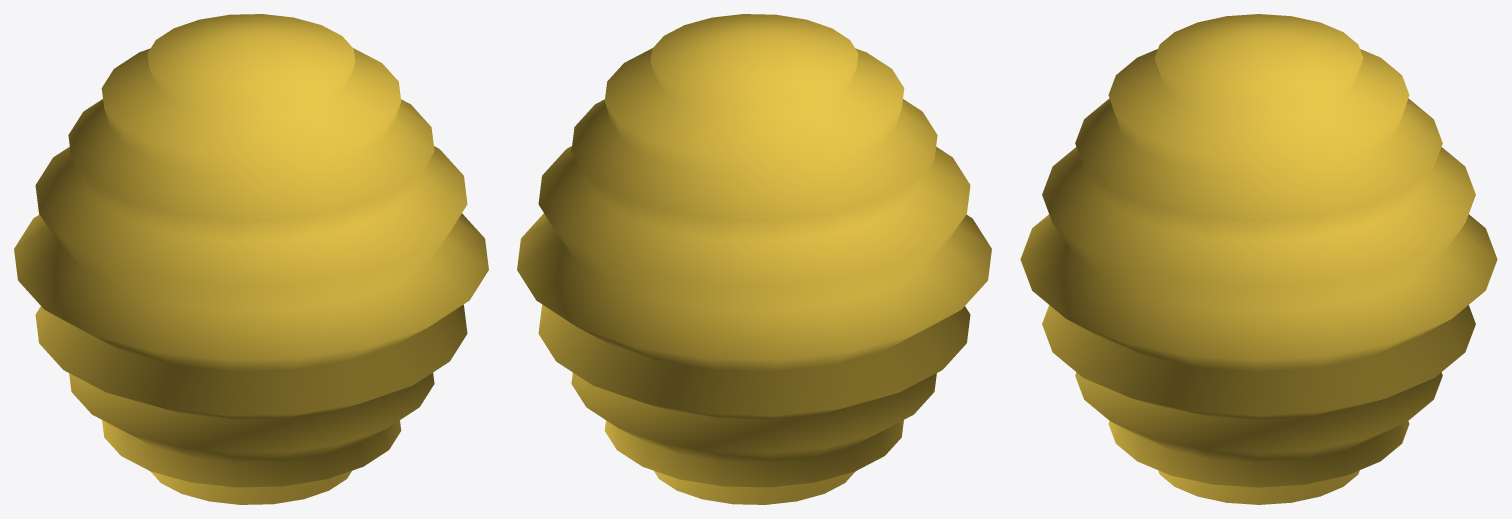
File: Boss_Beehive.fbx
3 renders of one model, left to right at view 1: azimuth 30°, elevation 25°; view 2: azimuth 150°, elevation 25°; view 3: azimuth 270°, elevation 25°, orthographic.
Visible parts, largest first — view 1: Beehive_Mesh; view 2: Beehive_Mesh; view 3: Beehive_Mesh.
Part boxes in pixels (box(x1,y1,x2,y2)): Beehive_Mesh: box(14, 14, 488, 504); Beehive_Mesh: box(517, 14, 991, 504); Beehive_Mesh: box(1020, 14, 1497, 504).
Size of the model in its own units: 6.39 by 6.48 by 6.39.
